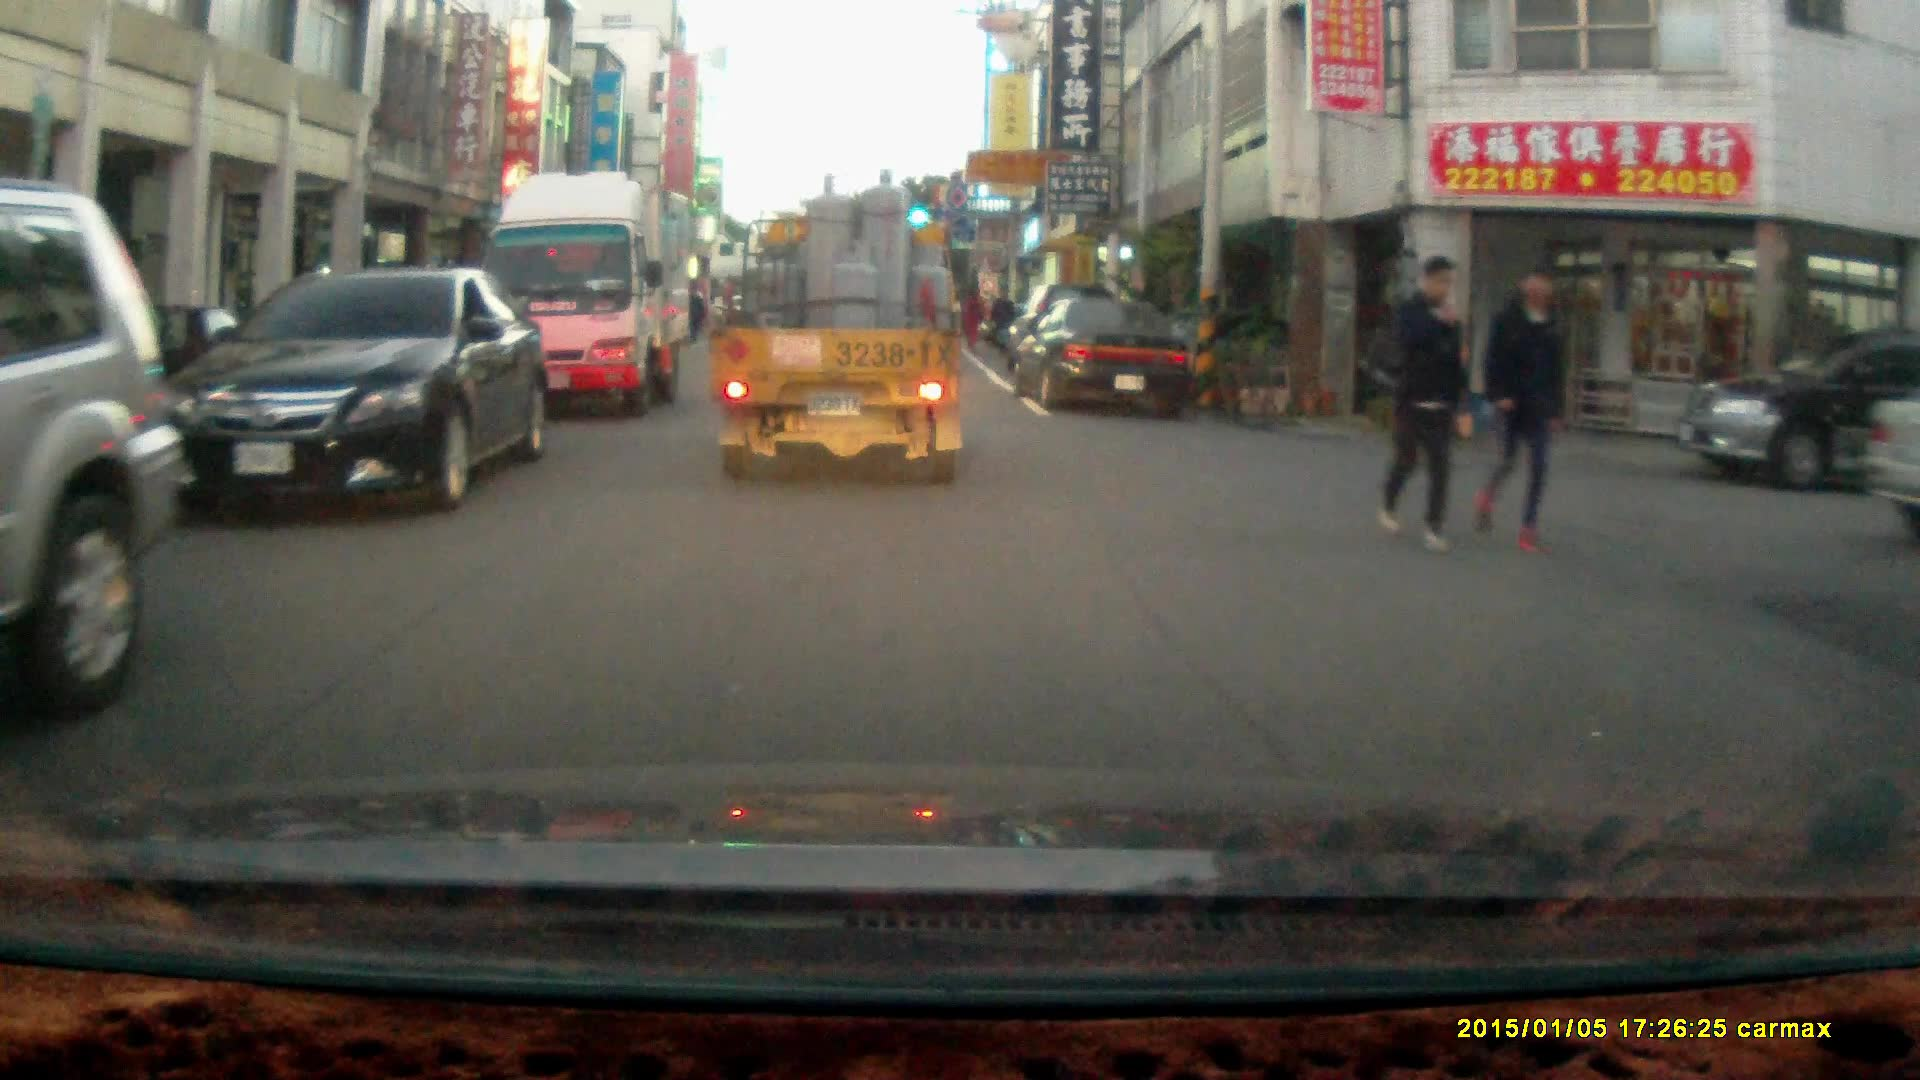pedestrian: (1477, 262, 1572, 563), (1376, 251, 1468, 554), (986, 283, 1015, 359), (675, 282, 707, 346), (960, 279, 985, 354)
vehicle: (146, 266, 557, 512), (1, 182, 186, 707), (714, 168, 970, 490), (477, 169, 694, 422), (1010, 298, 1197, 414)
